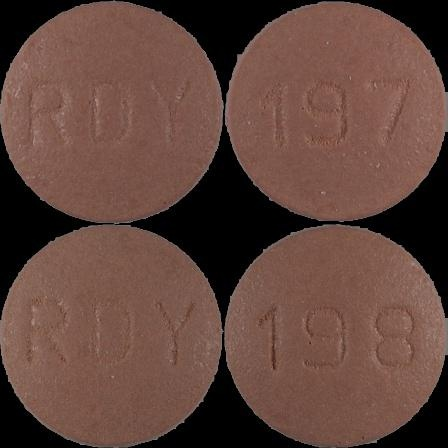55111-197: (0, 0, 224, 224)
